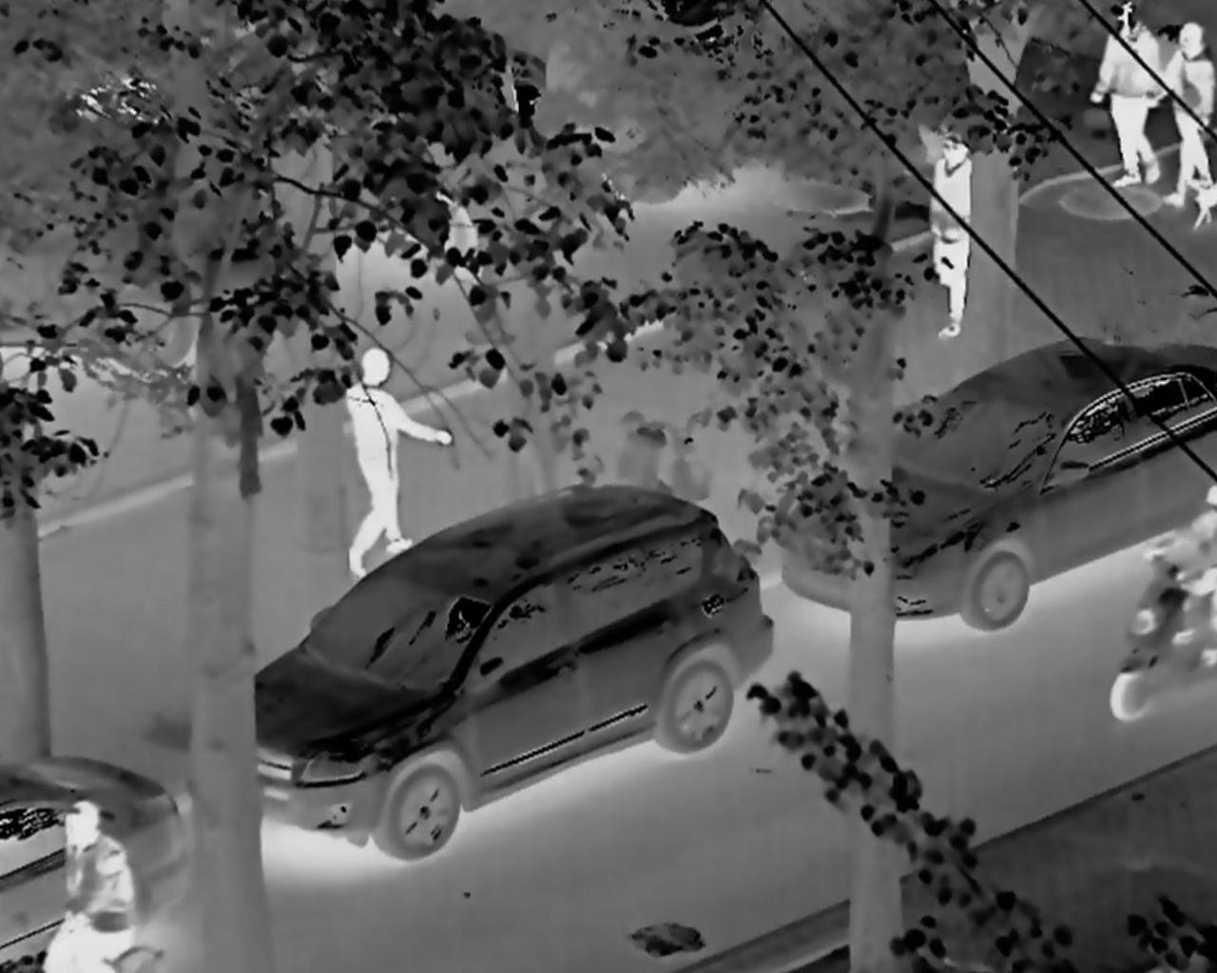person: (341, 321, 462, 588), (37, 772, 153, 973), (912, 106, 997, 349), (1163, 12, 1217, 223), (1104, 5, 1160, 206)
